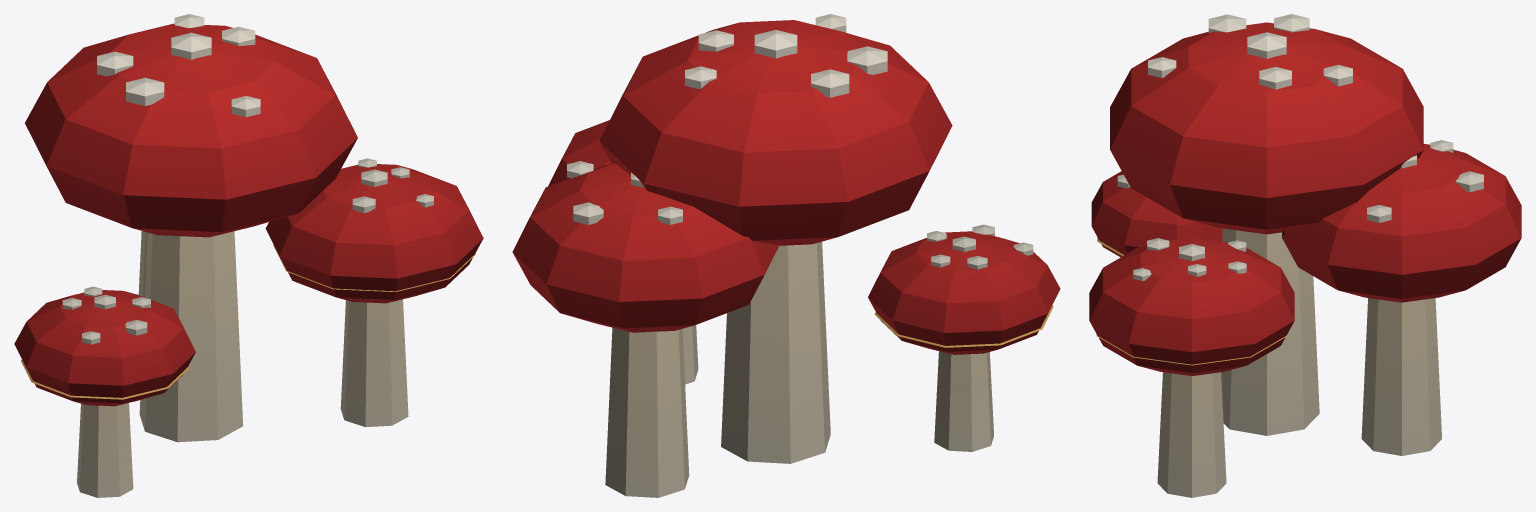
File: toadstool_cluster.glb
3 renders of one model, left to right at view 1: azimuth 30°, elevation 25°; view 2: azimuth 150°, elevation 25°; view 3: azimuth 270°, elevation 25°, orthographic. The views are drawn at different scales.
Visible parts, largest first — view 1: toadstool_cluster; view 2: toadstool_cluster; view 3: toadstool_cluster.
Boxes of the visible parts, left/top/right/bottom form: toadstool_cluster: left=14, top=14, right=483, bottom=497; toadstool_cluster: left=512, top=14, right=1060, bottom=497; toadstool_cluster: left=1089, top=14, right=1521, bottom=497.
Bounding box in the file's own units: 1.71 × 1.39 × 1.44.
